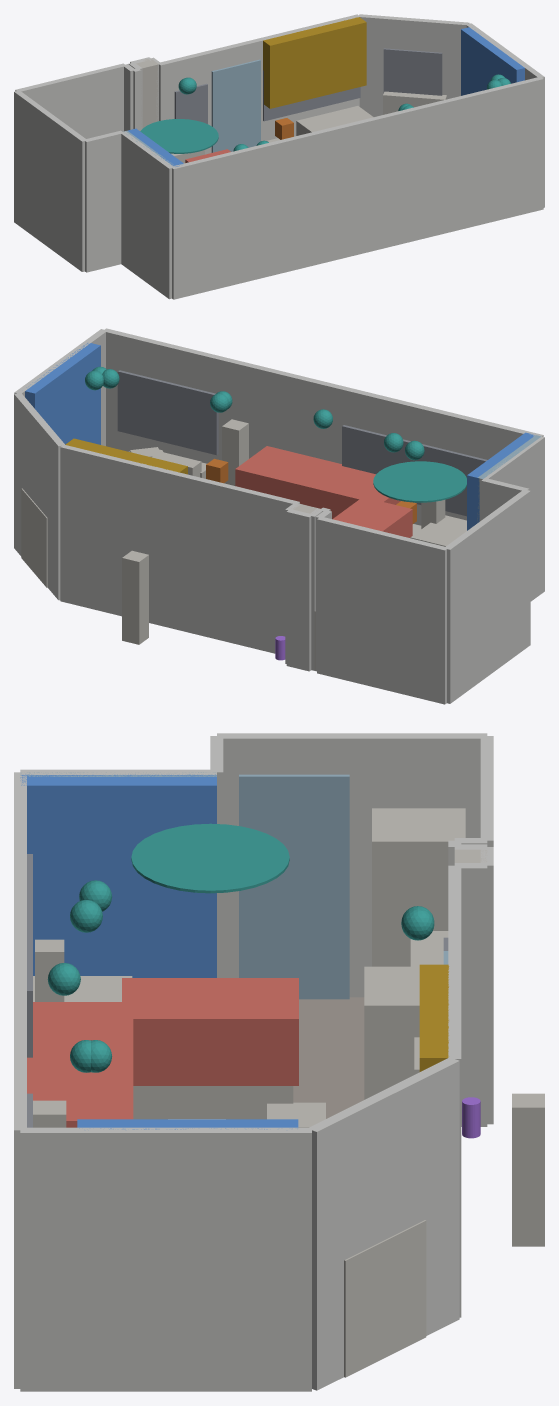
The model's file is ney_room.glb.
3 renders of one model, top to bottom at view 1: azimuth 30°, elevation 25°; view 2: azimuth 150°, elevation 25°; view 3: azimuth 270°, elevation 25°, orthographic. The views are drawn at different scales.
Parts seen in each view (by area): view 1: Wall 10, Wall 13, UNSAFE Screen, Wall 11, Wall 8, Wall 12, Wall 1, Wall 7, Bedroom door, Coexist flag, UNSAFE Glass door, Ceiling fan (+10 smaller); view 2: Wall 7, Wall 10, Wall 1, Wall 13, UNSAFE Eye level 2, Wall 8, UNSAFE Glass door, Wall 5, Happiness Project banner, Art wall, Wall 11, Ceiling fan (+16 smaller); view 3: Wall 9, UNSAFE Mirror, Wall 8, Wall 13, Front door, UNSAFE Eye level, Fridge, UNSAFE Eye level 2, Fireplace, Ceiling fan, Floor, Wall 6 (+19 smaller).
Boxes of the visible parts, <box> form: Wall 10: <box>171,77,543,299</box>; Wall 13: <box>14,90,86,271</box>; UNSAFE Screen: <box>263,17,366,108</box>; Wall 11: <box>121,131,174,299</box>; Wall 8: <box>359,14,469,116</box>; Wall 12: <box>84,130,122,272</box>; Wall 1: <box>15,63,126,138</box>; Wall 7: <box>159,14,360,154</box>; Bedroom door: <box>211,59,260,152</box>; Coexist flag: <box>383,48,442,95</box>; UNSAFE Glass door: <box>461,27,524,95</box>; Ceiling fan: <box>140,119,218,153</box>; Wall 7: <box>60,445,299,653</box>; Wall 10: <box>104,328,543,525</box>; Wall 1: <box>317,517,448,704</box>; Wall 13: <box>445,489,530,703</box>; UNSAFE Eye level 2: <box>235,446,400,519</box>; Wall 8: <box>14,393,65,600</box>; UNSAFE Glass door: <box>25,343,100,444</box>; Wall 5: <box>286,509,312,671</box>; Happiness Project banner: <box>117,370,187,446</box>; Art wall: <box>159,380,218,455</box>; Wall 11: <box>479,436,544,601</box>; Ceiling fan: <box>373,461,466,502</box>; Wall 9: <box>20,1127,311,1391</box>; UNSAFE Mirror: <box>20,774,216,977</box>; Wall 8: <box>307,1058,459,1390</box>; Wall 13: <box>217,733,487,997</box>; Front door: <box>239,774,349,999</box>; UNSAFE Eye level: <box>122,978,298,1085</box>; Fridge: <box>372,808,465,966</box>; UNSAFE Eye level 2: <box>27,1002,133,1127</box>; Fireplace: <box>344,1220,426,1377</box>; Ceiling fan: <box>131,823,289,893</box>; Floor: <box>293,997,364,1118</box>; Wall 6: <box>454,863,487,1126</box>.
Bounding box in the file's own units: 7.83 × 2.36 × 4.39.
